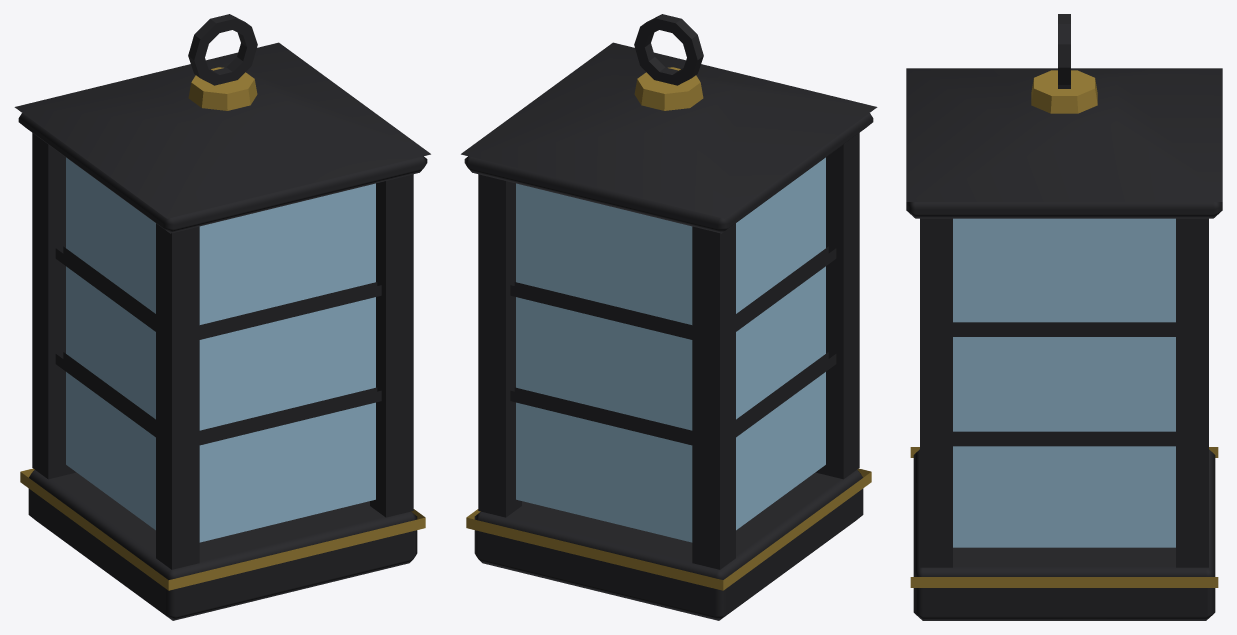
The model's file is lantern.glb.
The picture shows the model from 3 angles, left to right: view 1: azimuth 30°, elevation 25°; view 2: azimuth 150°, elevation 25°; view 3: azimuth 270°, elevation 25°; orthographic projection. The views are drawn at different scales.
Parts seen in each view (by area): view 1: Lantern; view 2: Lantern; view 3: Lantern.
Boxes of the visible parts, <box> form: Lantern: <box>14,14,430,620</box>; Lantern: <box>461,14,877,620</box>; Lantern: <box>906,14,1222,620</box>.
Size of the model in its own units: 0.21 by 0.397 by 0.21.
